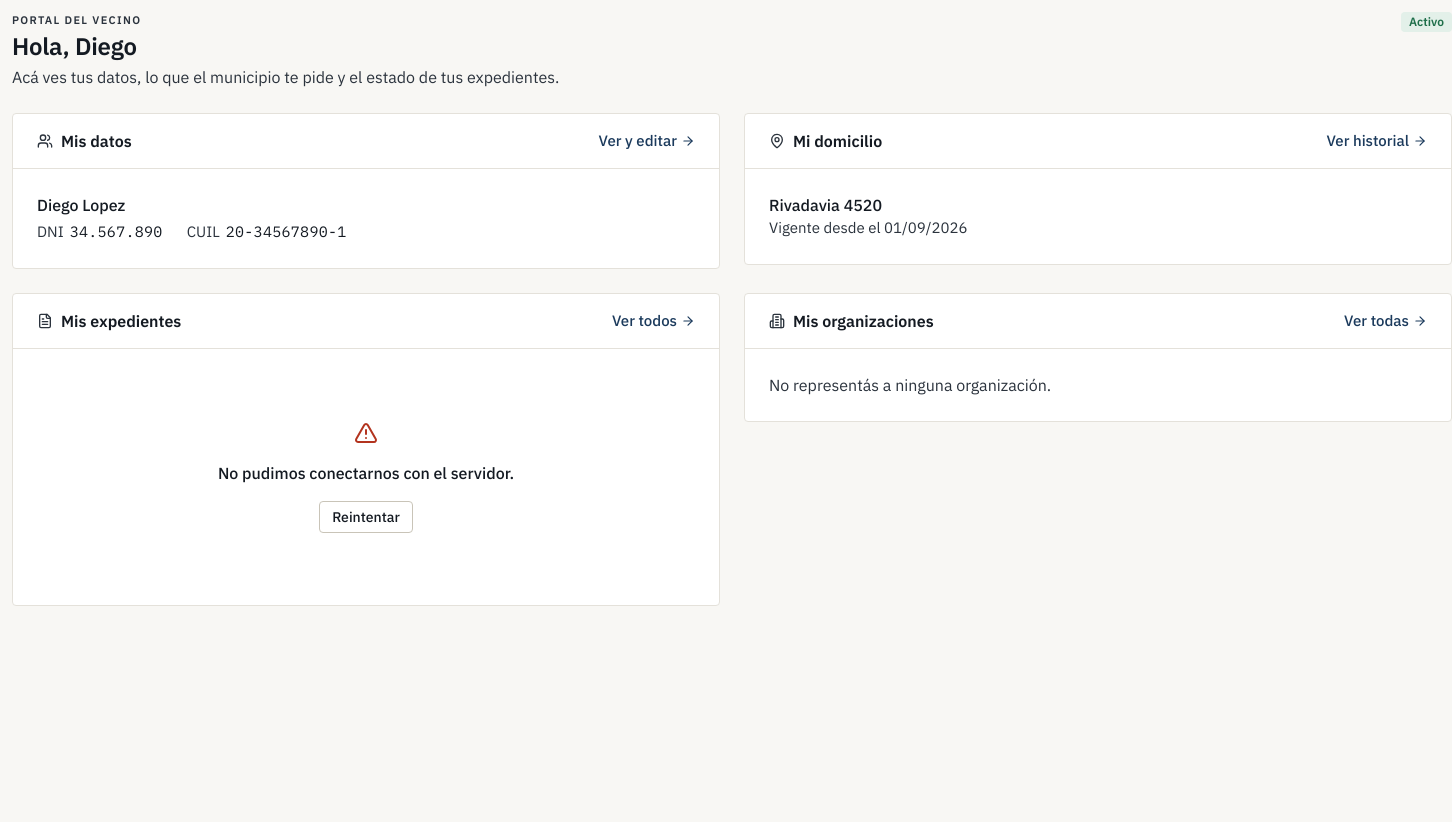
it: Mis trámites cuando falla una parte (BUG-FE-002) › al reintentar con el servidor arriba vuelve el bloque
Click the button "Reintentar" at (366, 517), box [319,501,413,533]
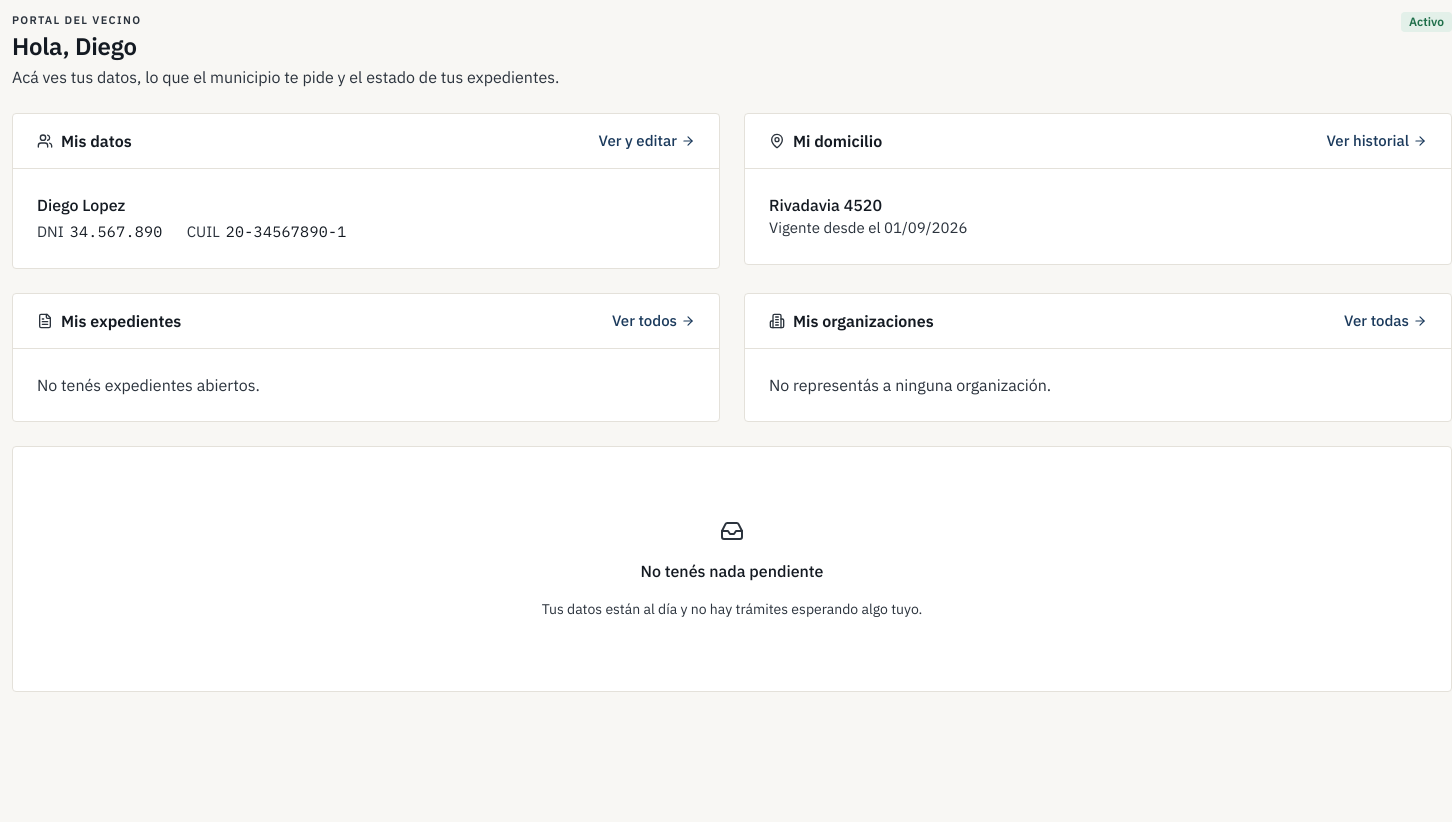
Check: the text "No tenés expedientes abiertos." is shown, box [37,375,260,395]
